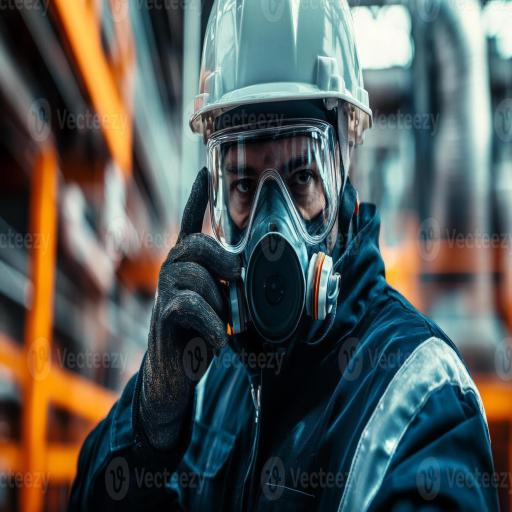mask: (226, 229, 340, 365)
